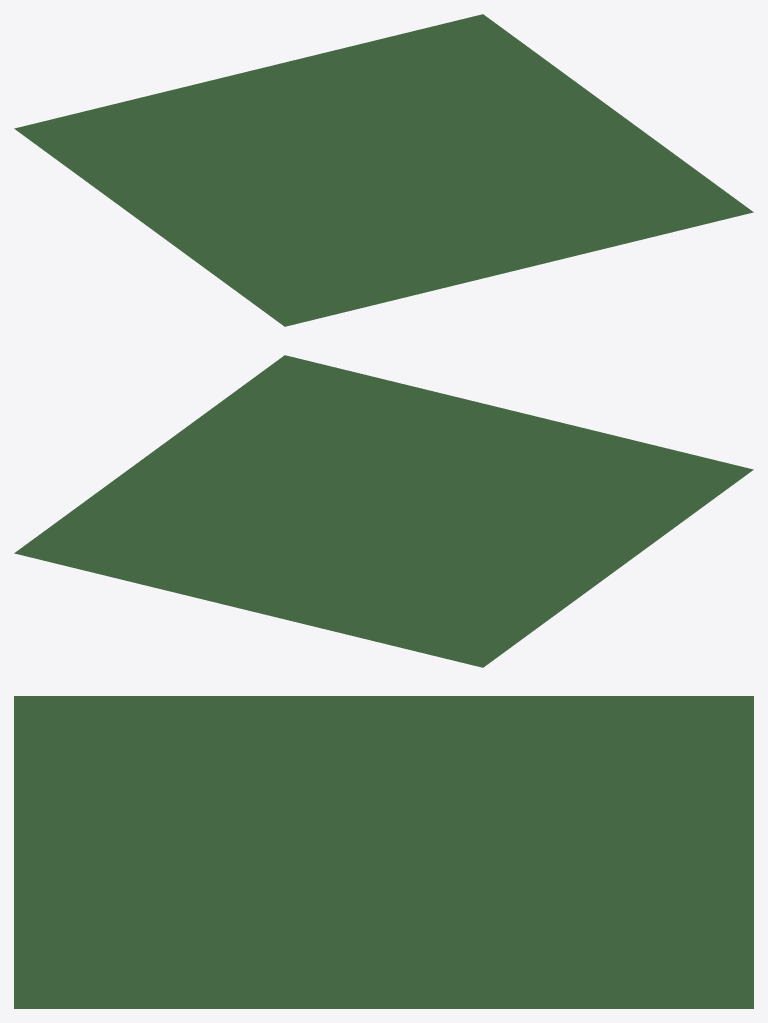
The model's file is grass_plane.glb.
The picture shows the model from 3 angles, top to bottom: view 1: azimuth 30°, elevation 25°; view 2: azimuth 150°, elevation 25°; view 3: azimuth 270°, elevation 25°; orthographic projection. The views are drawn at different scales.
Visible parts, largest first — view 1: Plane; view 2: Plane; view 3: Plane.
Boxes of the visible parts, x1,y1,x2,y2 form: Plane: (14,14,753,326); Plane: (14,355,753,667); Plane: (14,696,753,1008).
Bounding box in the file's own units: 199 × 0.0229 × 199.
